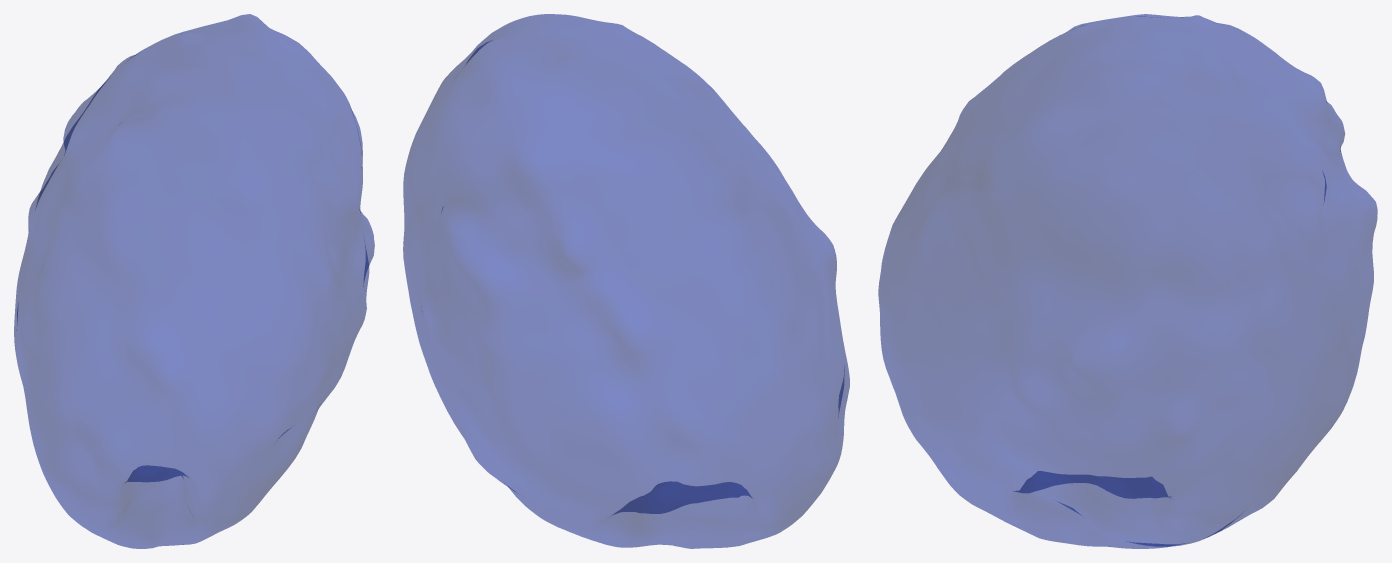
File: nucleus-2.obj
The picture shows the model from 3 angles, left to right: view 1: azimuth 30°, elevation 25°; view 2: azimuth 150°, elevation 25°; view 3: azimuth 270°, elevation 25°; orthographic projection. The views are drawn at different scales.
Visible parts, largest first — view 1: nucleus_2; view 2: nucleus_2; view 3: nucleus_2.
Part boxes in pixels (bbox=[...]): nucleus_2: bbox=[14, 14, 374, 548]; nucleus_2: bbox=[403, 14, 849, 548]; nucleus_2: bbox=[878, 14, 1377, 548].
Size of the model in its own units: 0.6991 by 0.878 by 0.7228.
